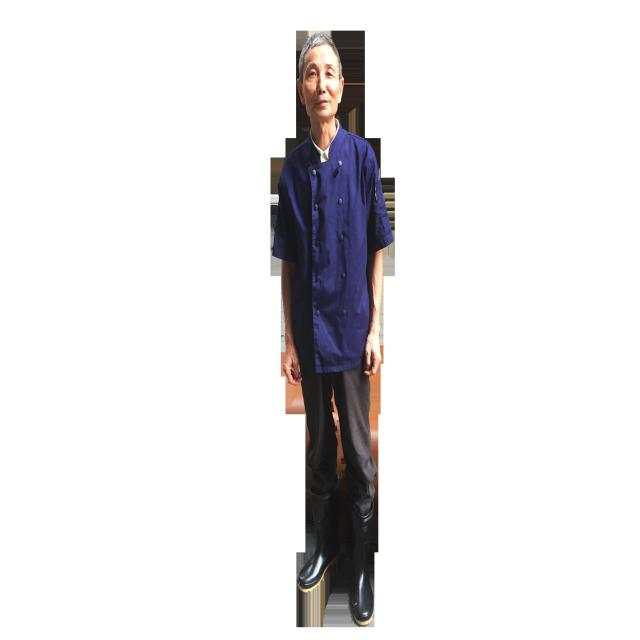jovem: (265, 30, 401, 629)
